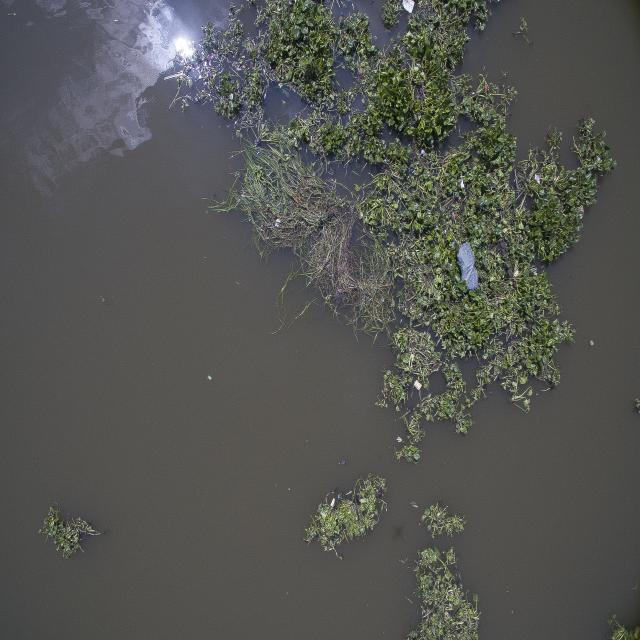plastic: (448, 237, 491, 304), (394, 0, 426, 26), (408, 371, 433, 403)
